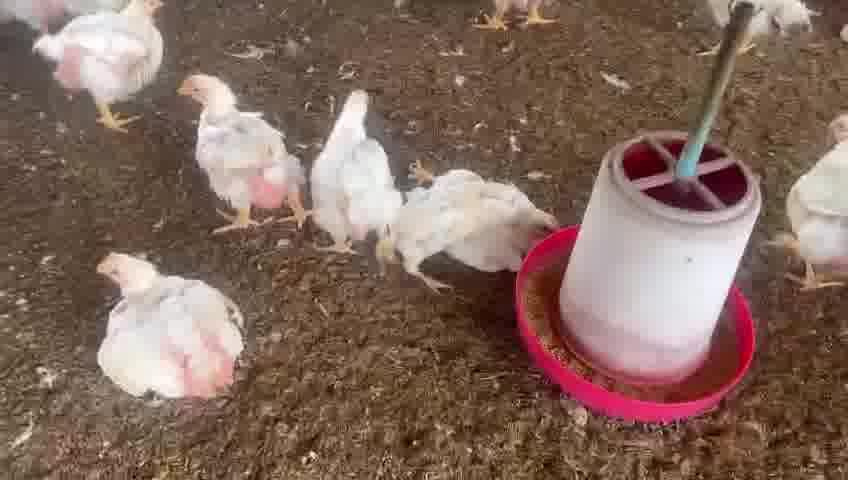AbNormal: (389, 153, 560, 278)
Normal: (92, 245, 262, 412), (175, 71, 324, 221), (41, 0, 185, 114), (308, 90, 401, 246), (774, 94, 848, 289)
